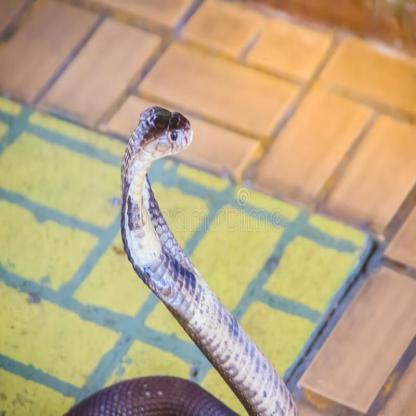Snake: (65, 100, 301, 416)
